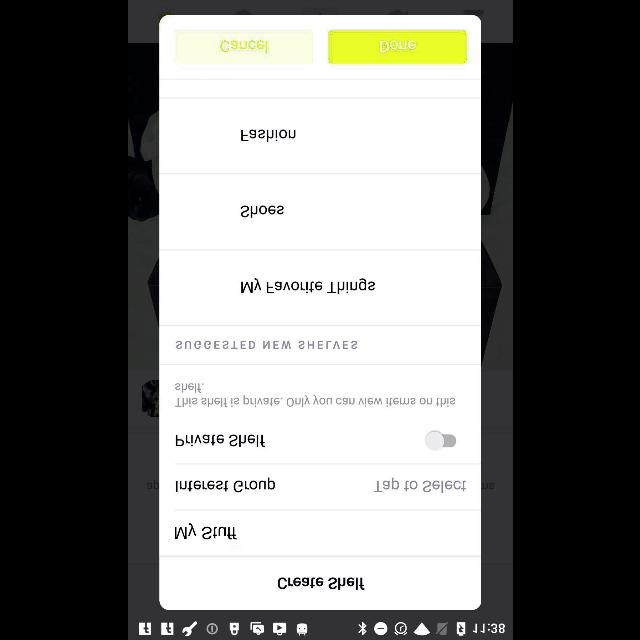panel: (159, 16, 481, 610)
switch: (424, 431, 456, 451)
text: (174, 382, 456, 408), (240, 278, 374, 294), (176, 340, 357, 350), (175, 477, 275, 493), (372, 477, 466, 493), (175, 434, 265, 448), (276, 578, 364, 590), (174, 523, 236, 539), (240, 130, 296, 142), (240, 206, 282, 218)
textbutton: (328, 30, 466, 64), (174, 29, 312, 62)
uppertaskbar: (128, 617, 512, 639)
